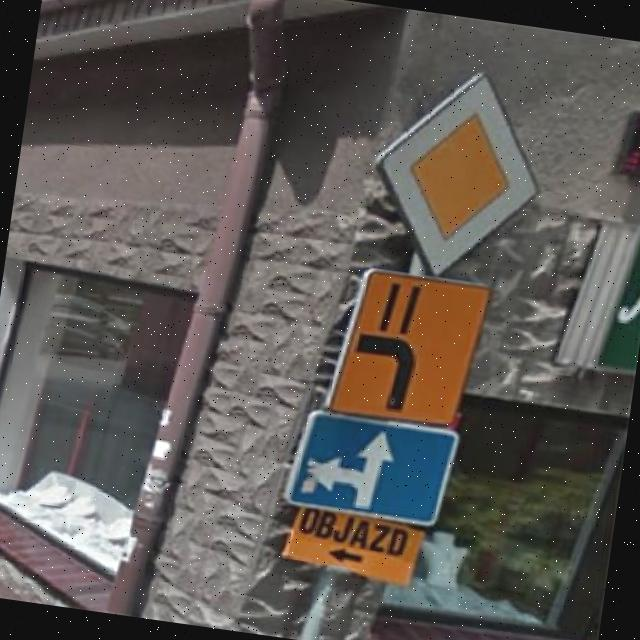Droga z pierwszenstwem: (357, 57, 558, 293)
